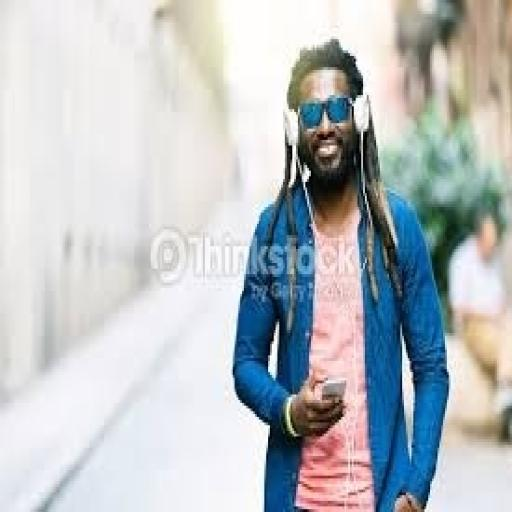listening_to_music: (229, 36, 452, 510)
